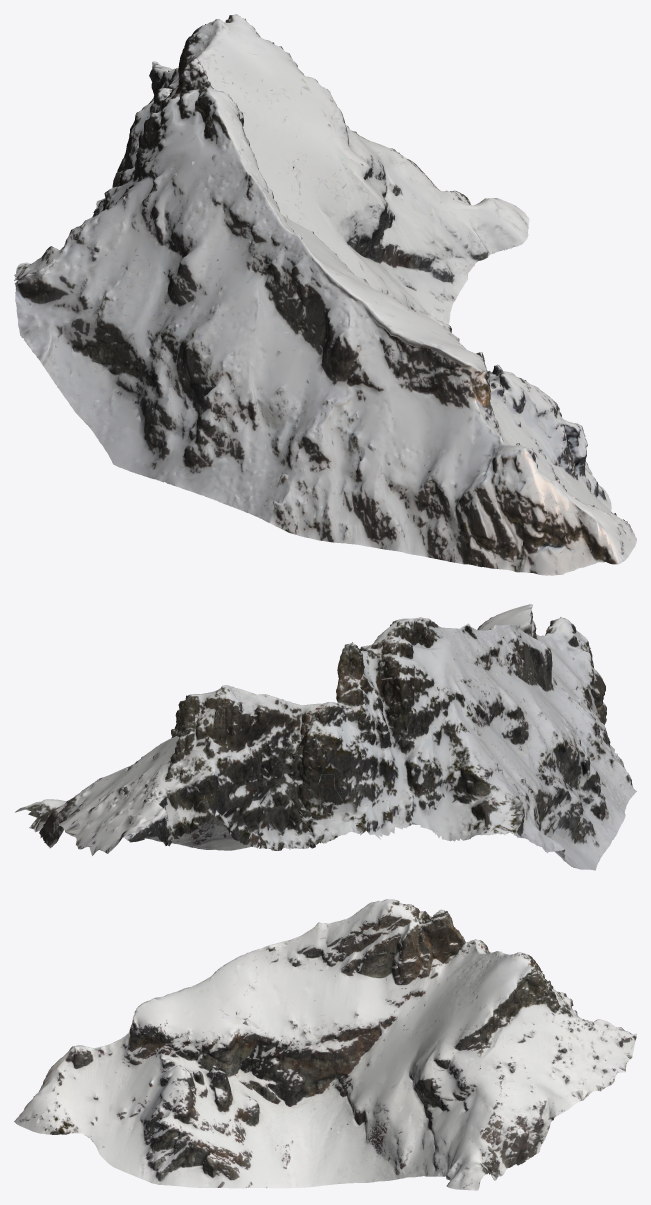
File: summit-peak.glb
3 views of the same model, one above another, from view 1: azimuth 30°, elevation 25°; view 2: azimuth 150°, elevation 25°; view 3: azimuth 270°, elevation 25° (orthographic). The views are drawn at different scales.
Parts seen in each view (by area): view 1: SM_Summit_Peak; view 2: SM_Summit_Peak; view 3: SM_Summit_Peak.
Part boxes in pixels (box(x1,y1,x2,y2)): SM_Summit_Peak: box(14, 14, 636, 575); SM_Summit_Peak: box(15, 604, 636, 870); SM_Summit_Peak: box(14, 899, 636, 1190).
Bounding box in the file's own units: 47.23 × 27.88 × 70.93.
1 material, 1 textured.
